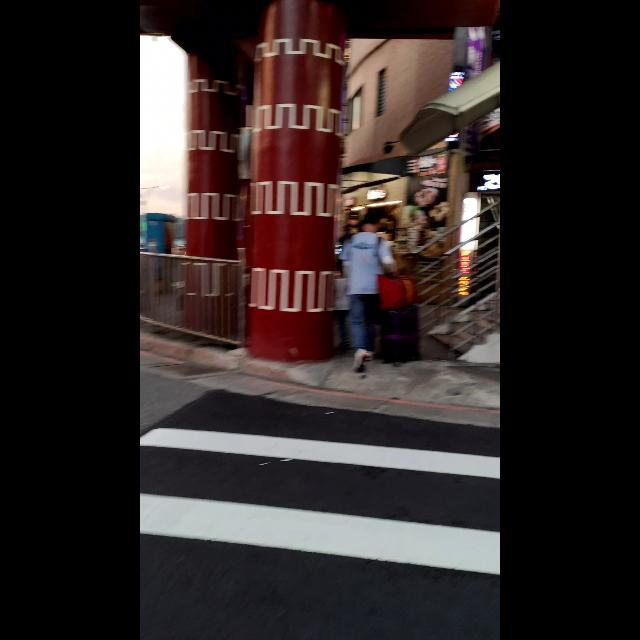sidewalk: (140, 427, 500, 579)
